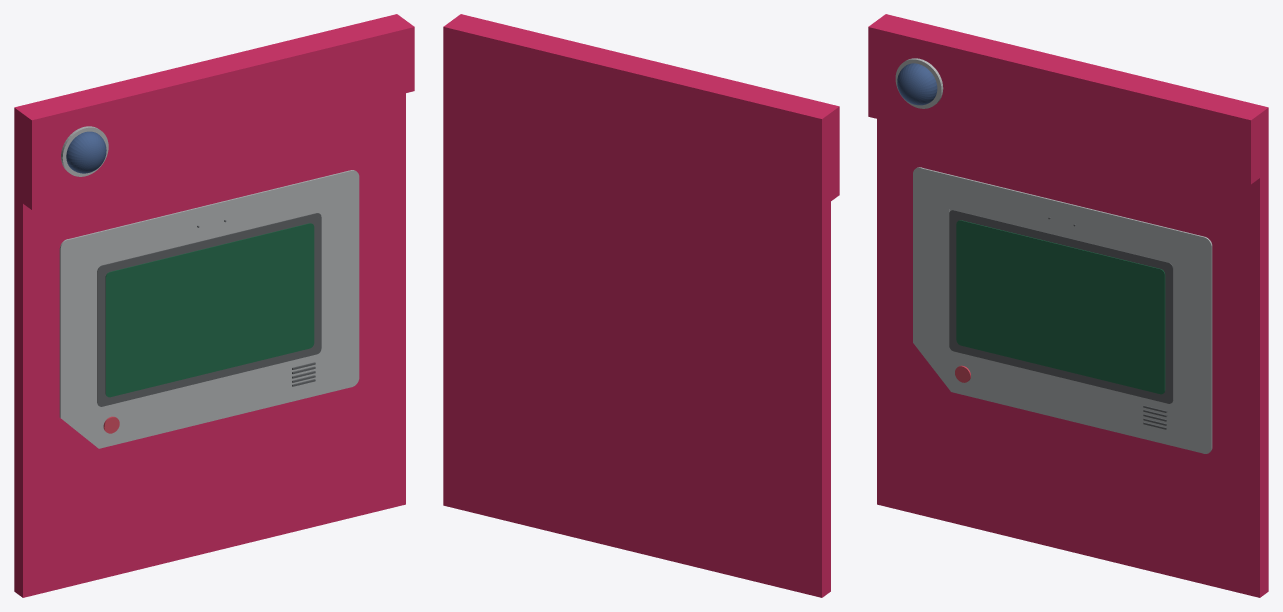
File: LeftPannel3DPokedex.glb
The picture shows the model from 3 angles, left to right: view 1: azimuth 30°, elevation 25°; view 2: azimuth 150°, elevation 25°; view 3: azimuth 330°, elevation 25°; orthographic projection.
Parts seen in each view (by area): view 1: Mesh_Mesh_head_geo.001_lambert2SG.001; view 2: Mesh_Mesh_head_geo.001_lambert2SG.001; view 3: Mesh_Mesh_head_geo.001_lambert2SG.001.
Part boxes in pixels (<box>): Mesh_Mesh_head_geo.001_lambert2SG.001: <box>14,14,414,597</box>; Mesh_Mesh_head_geo.001_lambert2SG.001: <box>443,14,839,597</box>; Mesh_Mesh_head_geo.001_lambert2SG.001: <box>868,14,1268,597</box>.
Bounding box in the file's own units: 0.25 × 0.302 × 0.032.
